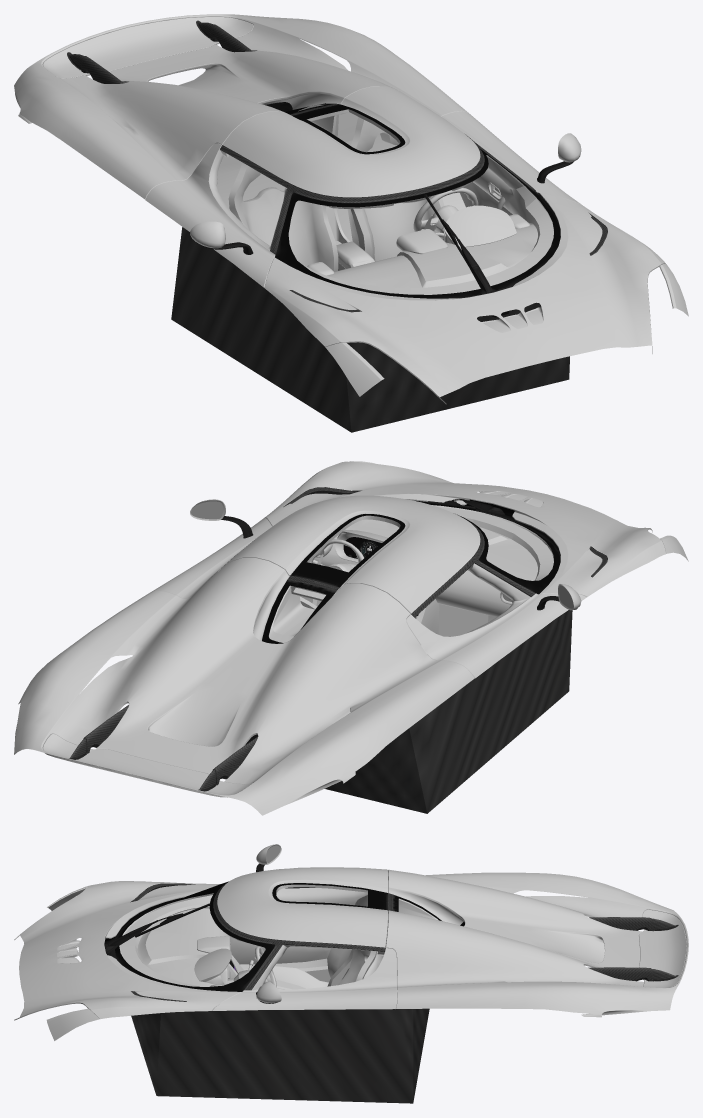
Rendered from RMCar17Interior.FBX.
3 renders of one model, top to bottom at view 1: azimuth 30°, elevation 25°; view 2: azimuth 150°, elevation 25°; view 3: azimuth 270°, elevation 25°, orthographic. The views are drawn at different scales.
Parts seen in each view (by area): view 1: RMCar17_Paint_LOD0, RMCar17_Body_LOD0, RMCar17_Interior1P_LOD0, RMCar17_SpoilerPaint_LOD0, RMCar17_Spoiler_LOD0, RMCar17_SteeringWheel_LOD0; view 2: RMCar17_Paint_LOD0, RMCar17_Body_LOD0, RMCar17_Interior1P_LOD0, RMCar17_SpoilerPaint_LOD0, RMCar17_Spoiler_LOD0; view 3: RMCar17_Paint_LOD0, RMCar17_Body_LOD0, RMCar17_Interior1P_LOD0, RMCar17_SpoilerPaint_LOD0, RMCar17_Spoiler_LOD0.
Part boxes in pixels (x1,y1,x2,y2): RMCar17_Paint_LOD0: (14,14,688,404); RMCar17_Body_LOD0: (171,102,607,432); RMCar17_Interior1P_LOD0: (209,104,553,294); RMCar17_SpoilerPaint_LOD0: (43,17,253,78); RMCar17_Spoiler_LOD0: (67,20,252,83); RMCar17_SteeringWheel_LOD0: (413,187,478,232); RMCar17_Paint_LOD0: (14,461,688,815); RMCar17_Body_LOD0: (191,487,607,813); RMCar17_Interior1P_LOD0: (269,505,553,642); RMCar17_SpoilerPaint_LOD0: (43,734,252,796); RMCar17_Spoiler_LOD0: (69,705,258,791); RMCar17_Paint_LOD0: (14,844,688,1040); RMCar17_Body_LOD0: (104,845,464,1103); RMCar17_Interior1P_LOD0: (119,884,438,990); RMCar17_SpoilerPaint_LOD0: (639,909,686,987); RMCar17_Spoiler_LOD0: (588,917,678,981).
Bounding box in the file's own units: 86.93 × 165 × 44.04.
